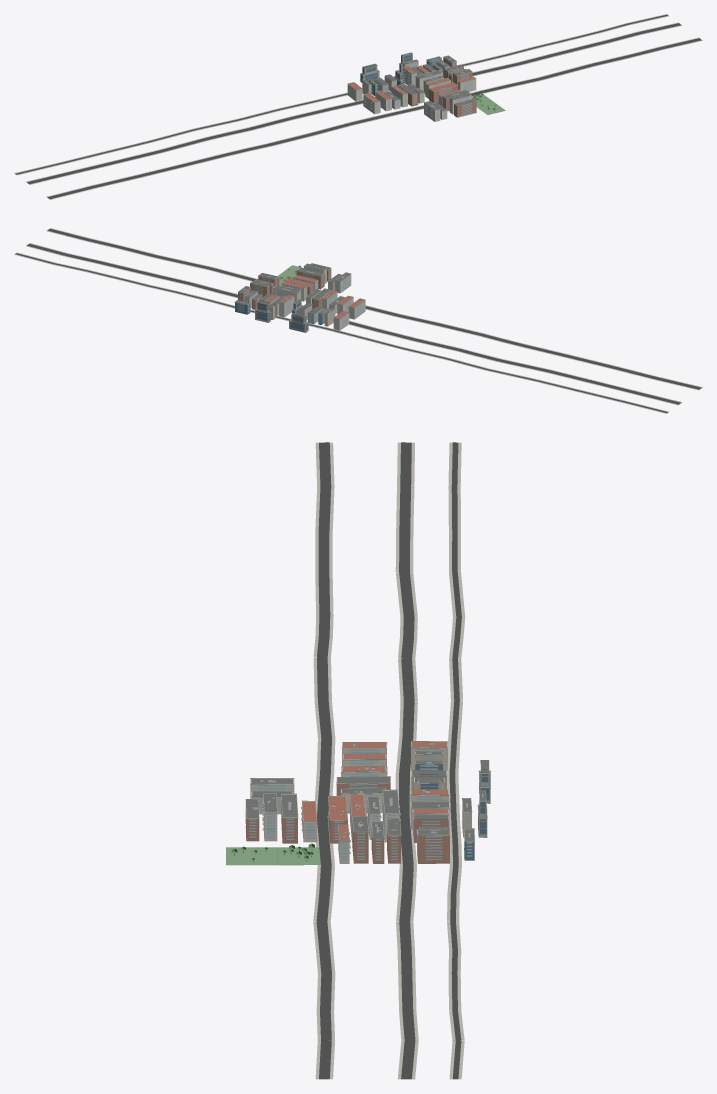
File: tile-p000-m003.glb
3 views of the same model, one above another, from view 1: azimuth 30°, elevation 25°; view 2: azimuth 150°, elevation 25°; view 3: azimuth 270°, elevation 25° (orthographic). The views are drawn at different scales.
Parts seen in each view (by area): view 1: road-h-1-mesh-1, road-h-2-mesh-3, road-h-1-mesh-0, road-h-2-mesh-2, road-h-3-mesh-4, road-h-3-mesh-5, neighborhood-park-block-183-mesh-6; view 2: road-h-1-mesh-1, road-h-2-mesh-3, road-h-3-mesh-4, road-h-1-mesh-0, road-h-2-mesh-2, road-h-3-mesh-5; view 3: road-h-1-mesh-1, road-h-2-mesh-3, road-h-3-mesh-4, road-h-1-mesh-0, road-h-2-mesh-2, road-h-3-mesh-5, neighborhood-park-block-183-mesh-6.
Part boxes in pixels (box(x1,y1,x2,y2)): road-h-1-mesh-1: box(47, 38, 701, 199); road-h-2-mesh-3: box(27, 23, 681, 184); road-h-1-mesh-0: box(46, 37, 702, 199); road-h-2-mesh-2: box(26, 22, 681, 184); road-h-3-mesh-4: box(14, 14, 668, 175); road-h-3-mesh-5: box(15, 14, 668, 174); neighborhood-park-block-183-mesh-6: box(472, 93, 505, 114); road-h-1-mesh-1: box(47, 228, 701, 389); road-h-2-mesh-3: box(27, 243, 681, 404); road-h-3-mesh-4: box(14, 252, 668, 413); road-h-1-mesh-0: box(46, 228, 702, 390); road-h-2-mesh-2: box(26, 243, 682, 405); road-h-3-mesh-5: box(15, 253, 668, 413); road-h-1-mesh-1: box(316, 442, 331, 1079); road-h-2-mesh-3: box(399, 442, 415, 1079); road-h-3-mesh-4: box(447, 442, 465, 1079); road-h-1-mesh-0: box(313, 442, 335, 1079); road-h-2-mesh-2: box(395, 442, 418, 1079); road-h-3-mesh-5: box(449, 442, 461, 1079); neighborhood-park-block-183-mesh-6: box(226, 847, 320, 865).
Bounding box in the file's own units: 1600 × 42.13 × 281.
